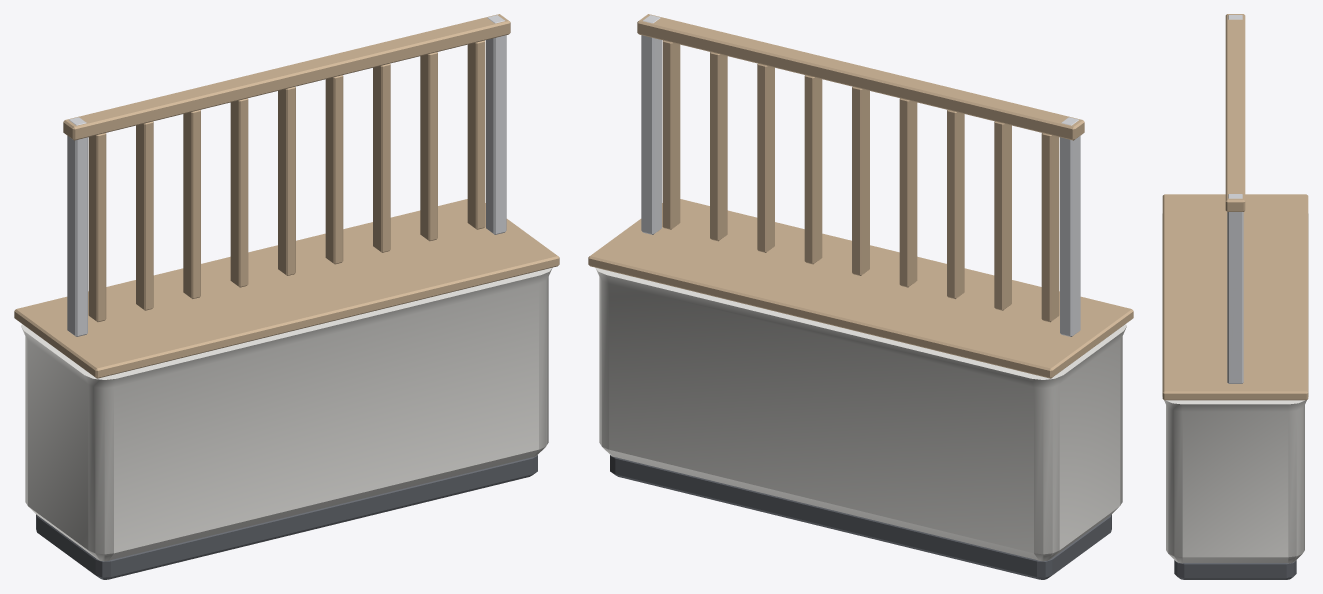
Rendered from downtown-office-interiors-planter-divider-c399d4d2__17048.glb.
3 views of the same model, side by side, from view 1: azimuth 30°, elevation 25°; view 2: azimuth 150°, elevation 25°; view 3: azimuth 270°, elevation 25° (orthographic). The views are drawn at different scales.
Parts seen in each view (by area): view 1: planter-divider; view 2: planter-divider; view 3: planter-divider.
Part boxes in pixels (x1,y1,x2,y2): planter-divider: (14,14,559,579); planter-divider: (588,14,1133,579); planter-divider: (1162,14,1308,579).
Size of the model in its own units: 1.42 by 1.27 by 0.444.
